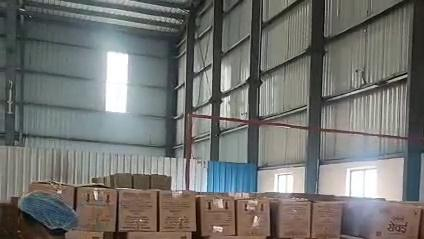box: (353, 201, 421, 238), (76, 186, 117, 231), (117, 189, 157, 231), (342, 198, 385, 235), (271, 199, 311, 238), (158, 190, 196, 231), (197, 195, 235, 235), (308, 201, 344, 239), (235, 198, 270, 236), (28, 182, 75, 206), (119, 232, 191, 238), (106, 173, 132, 187), (150, 174, 171, 190), (66, 230, 104, 238), (132, 174, 150, 189), (203, 236, 265, 238), (420, 208, 423, 238), (103, 233, 117, 238), (343, 236, 362, 238), (298, 238, 300, 238)
